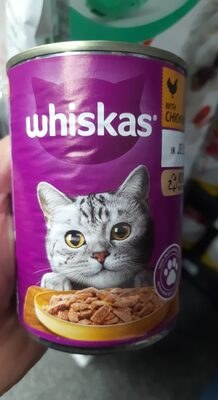Whiskas with chicken in Jelly: (11, 20, 207, 380)
